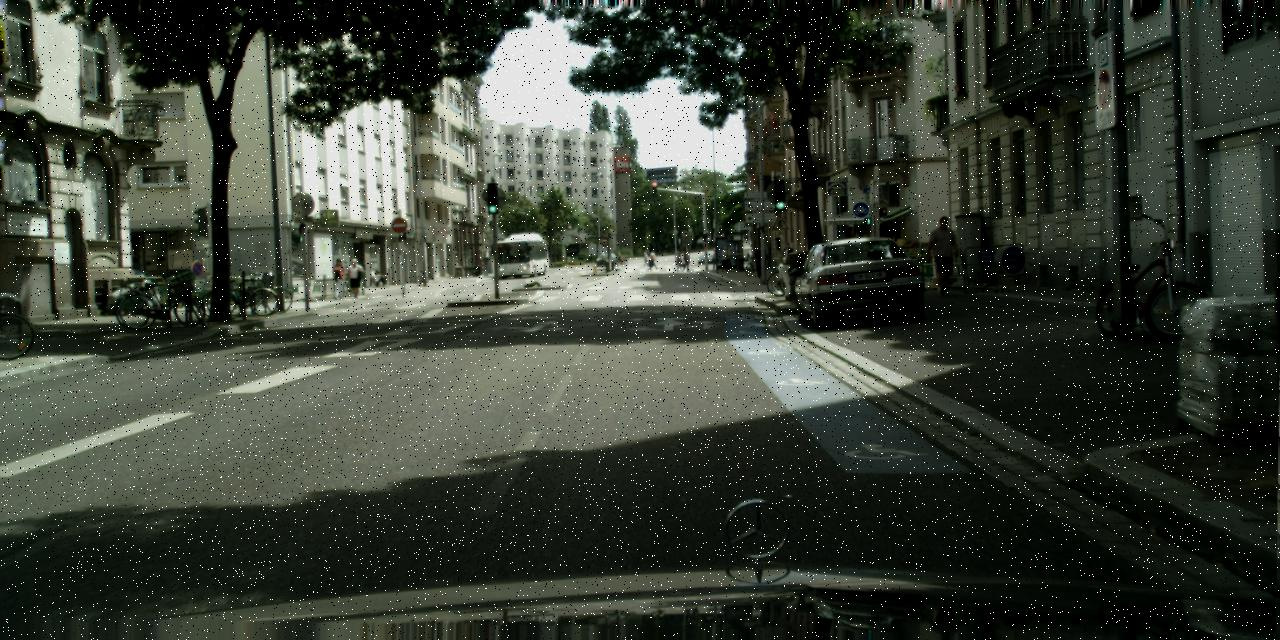ped: (927, 215, 959, 296), (840, 225, 865, 286), (329, 258, 346, 300), (347, 258, 362, 298), (780, 242, 794, 276), (753, 245, 766, 278), (676, 250, 690, 272), (720, 246, 729, 270), (480, 253, 489, 276), (710, 248, 718, 268), (649, 250, 656, 268), (642, 252, 647, 266), (618, 252, 623, 266), (599, 252, 604, 264)
